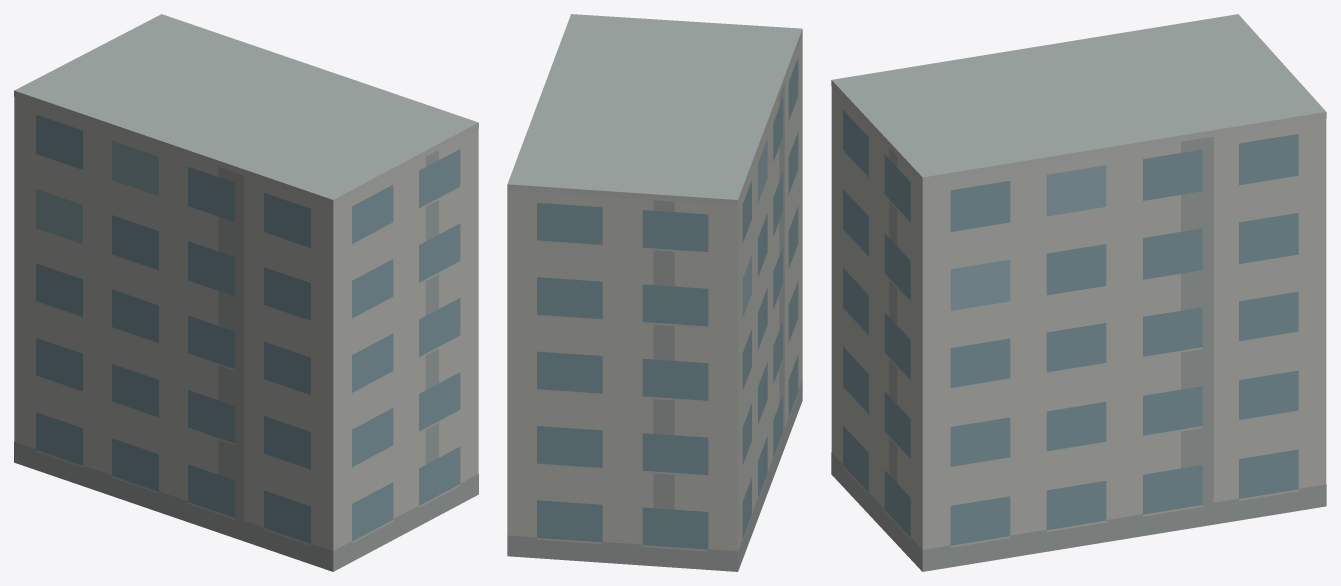
The model's file is survey-upis-32893270.glb.
The picture shows the model from 3 angles, left to right: view 1: azimuth 30°, elevation 25°; view 2: azimuth 150°, elevation 25°; view 3: azimuth 270°, elevation 25°; orthographic projection. The views are drawn at different scales.
Visible parts, largest first — view 1: survey-upis-32893270.tmp; view 2: survey-upis-32893270.tmp; view 3: survey-upis-32893270.tmp.
Part boxes in pixels (x1,y1,x2,y2): survey-upis-32893270.tmp: [14, 14, 478, 571]; survey-upis-32893270.tmp: [507, 14, 802, 571]; survey-upis-32893270.tmp: [831, 14, 1326, 571].
Size of the model in its own units: 13.25 by 14.9 by 16.95.
